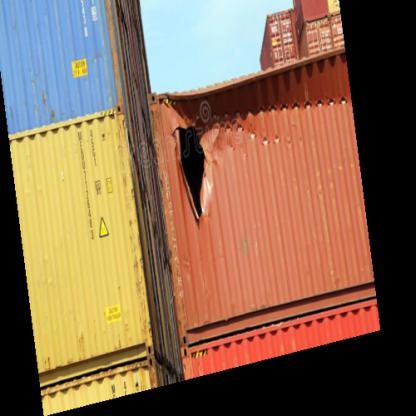Damage: (162, 99, 237, 222), (232, 53, 325, 117)
